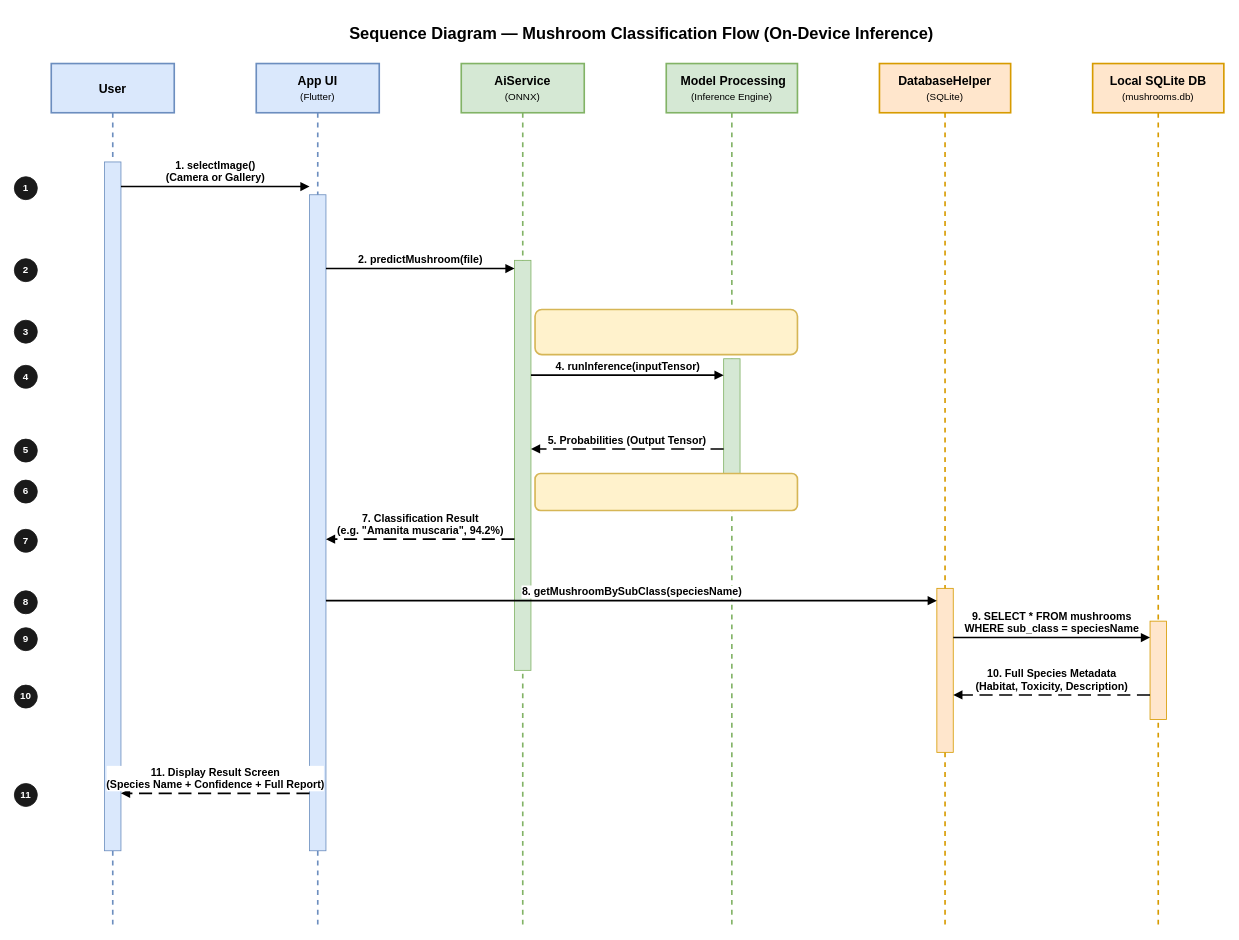
Image size: 1239x940. Some labels were removed from this diagram. The shapes that lost their labels are listed below. From the top down, each one's centre as x and y in pixels, then its label:
At point 666,331: "3. preprocessImage() Resize 320px → Crop 300×300 → Normalize".
At point 666,491: "6. Extract Top Species ID + Confidence Score".
